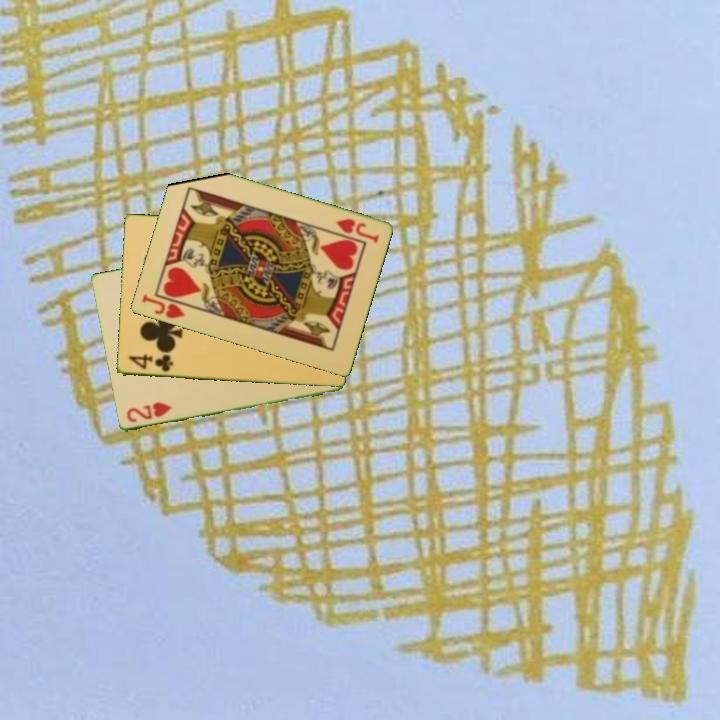2h: (123, 399, 175, 426)
4c: (124, 351, 176, 375)
Jh: (138, 290, 195, 322), (333, 215, 382, 245)
